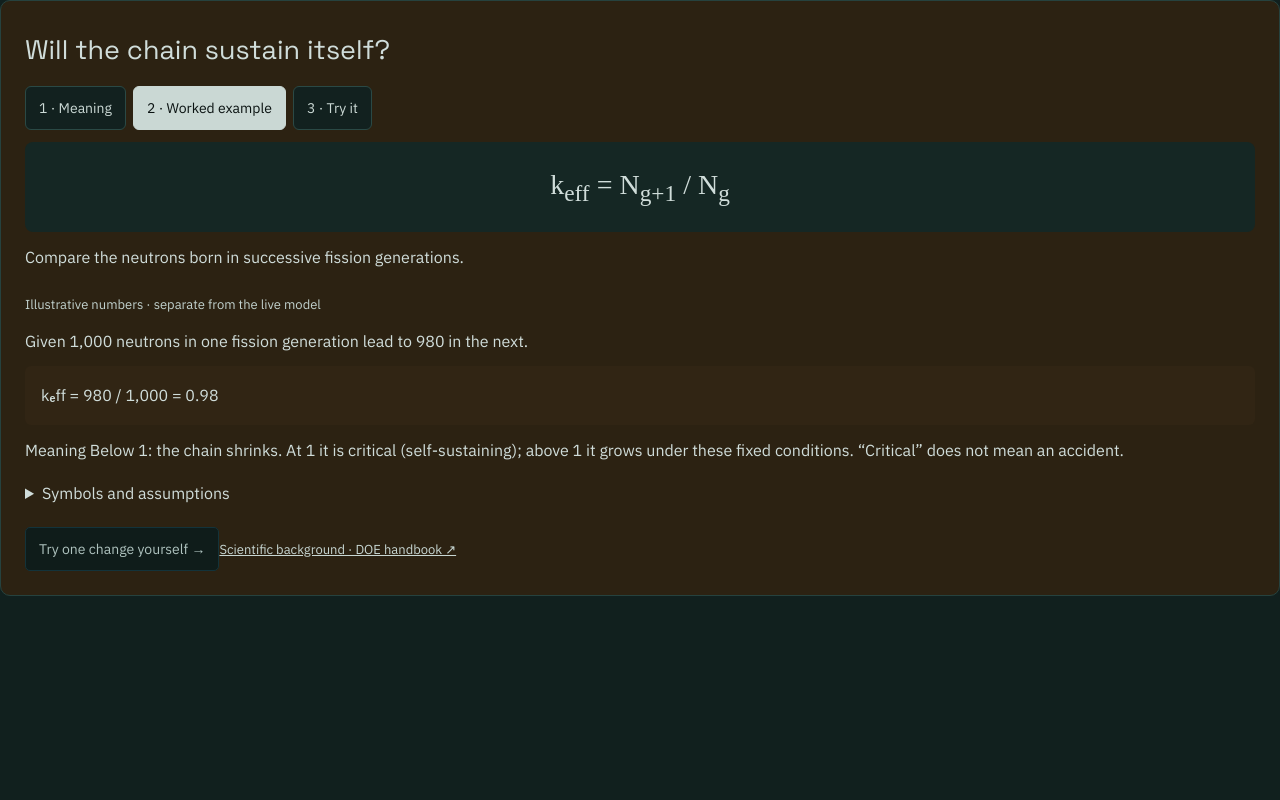
Test: each equation's worked example leads to actionable feedback and retry
Earlier steps of the test are not shown.
Later steps or results of the test are not shown.
Expected: the text "Illustrative numbers · separate from the live model" is shown, [25,296,321,313]
Click the button "Try one change yourself →".
click(122, 549)  # box [25,527,220,571]
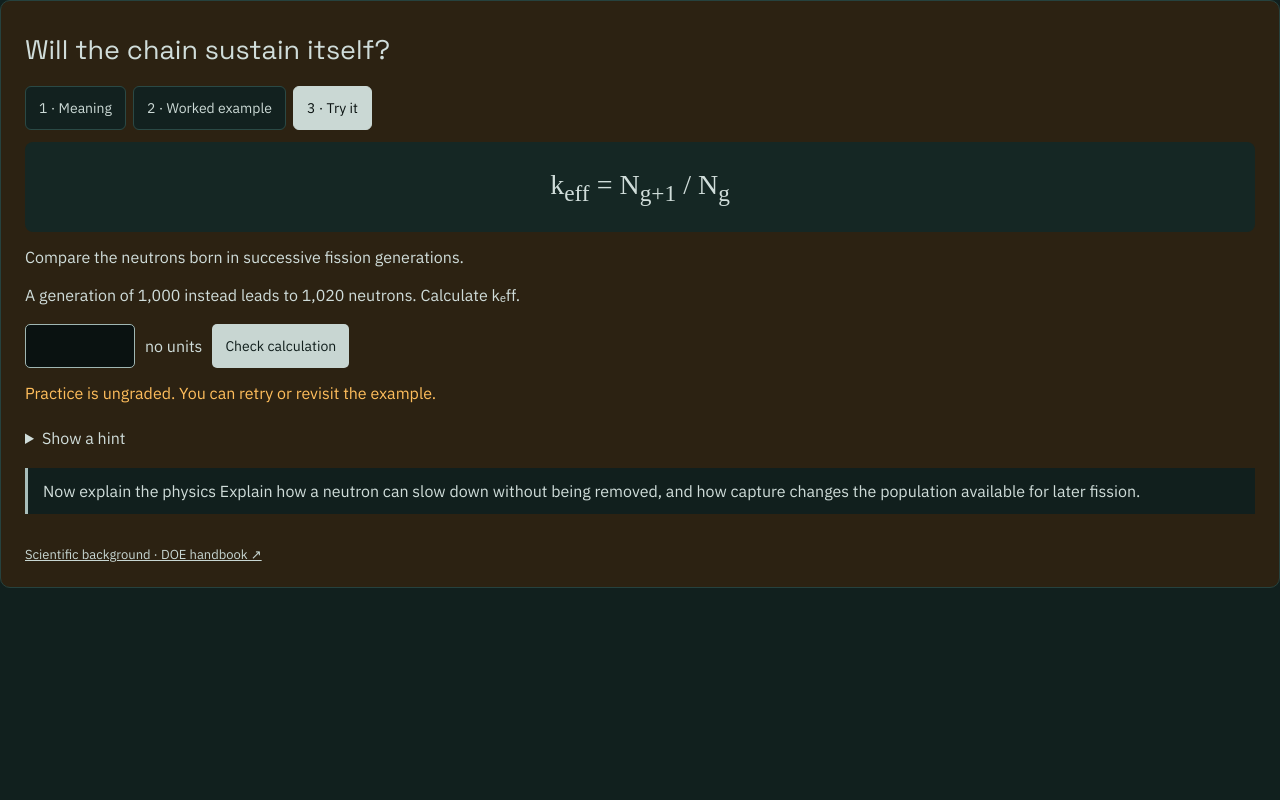
Click the button "Check calculation".
click(281, 346)  # box [212,324,349,368]
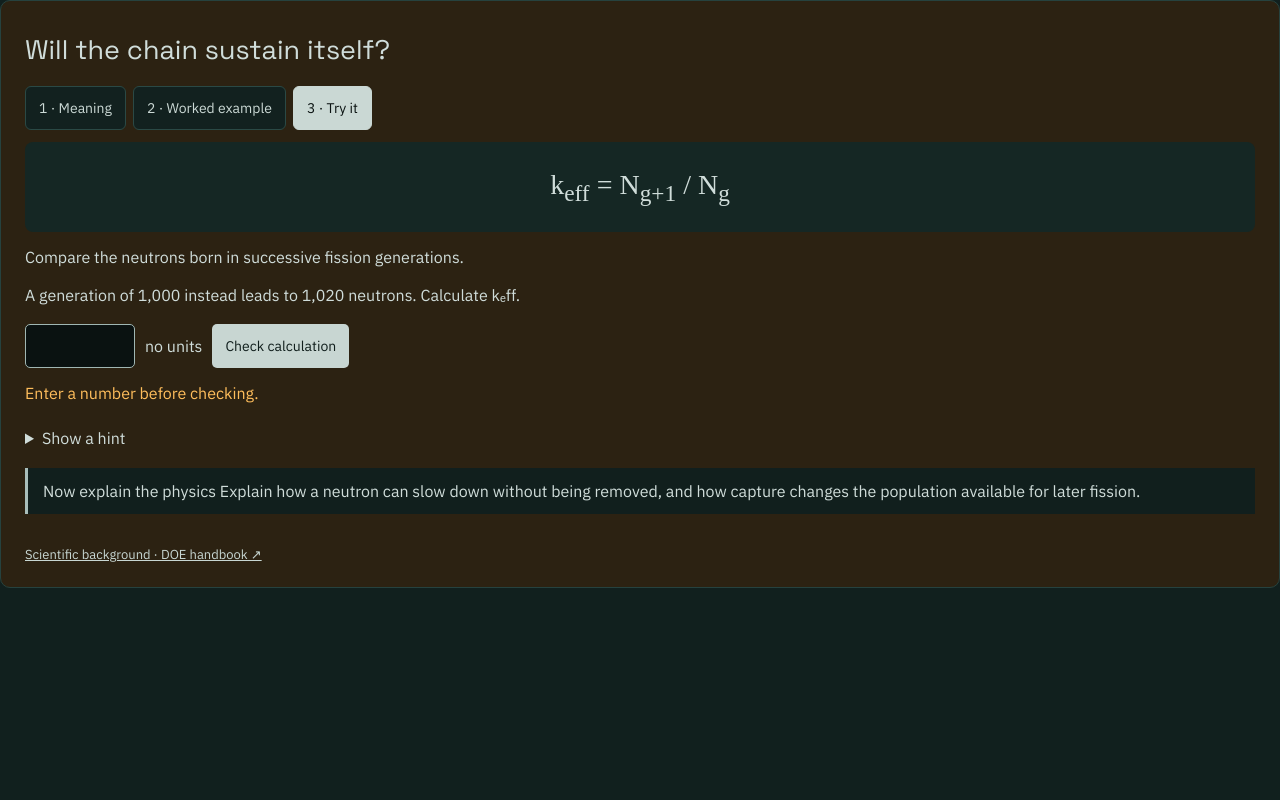
Expected: the message shows "Enter a number", [25,383,259,403]
Type "999" into the field.
click(80, 346); type("999")  # box [25,324,135,368]
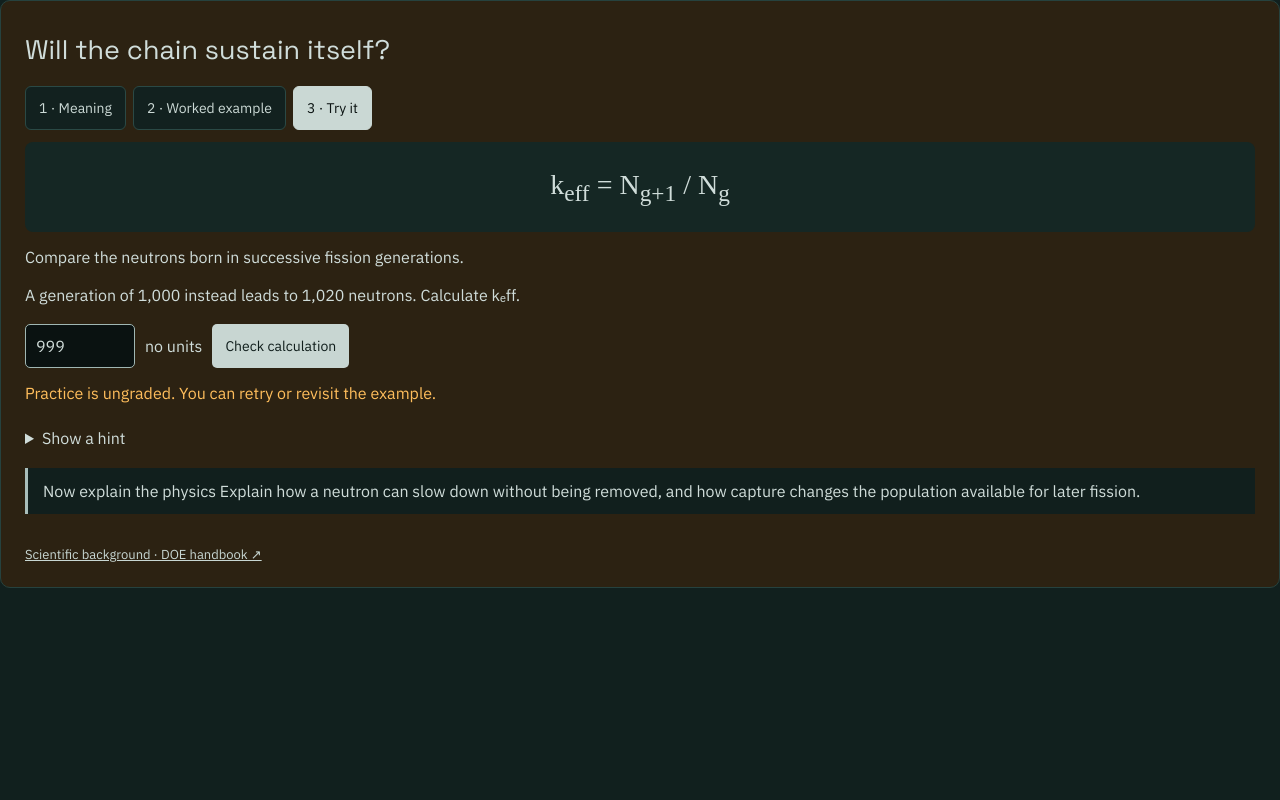
Click the button "Check calculation".
click(281, 346)  # box [212,324,349,368]
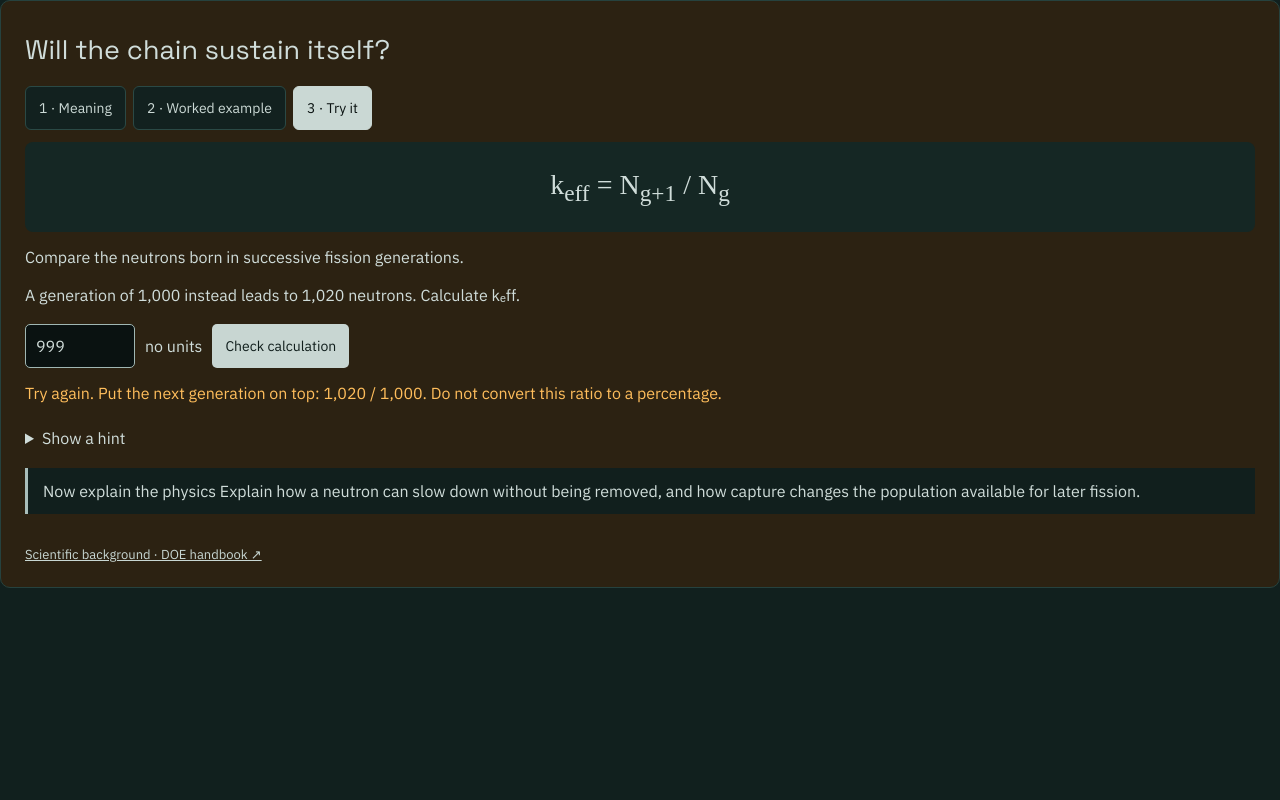
Expected: the message shows "Try again", [25,383,722,403]
Replace the text in the field with "1.02" at (80, 346), box [25,324,135,368]
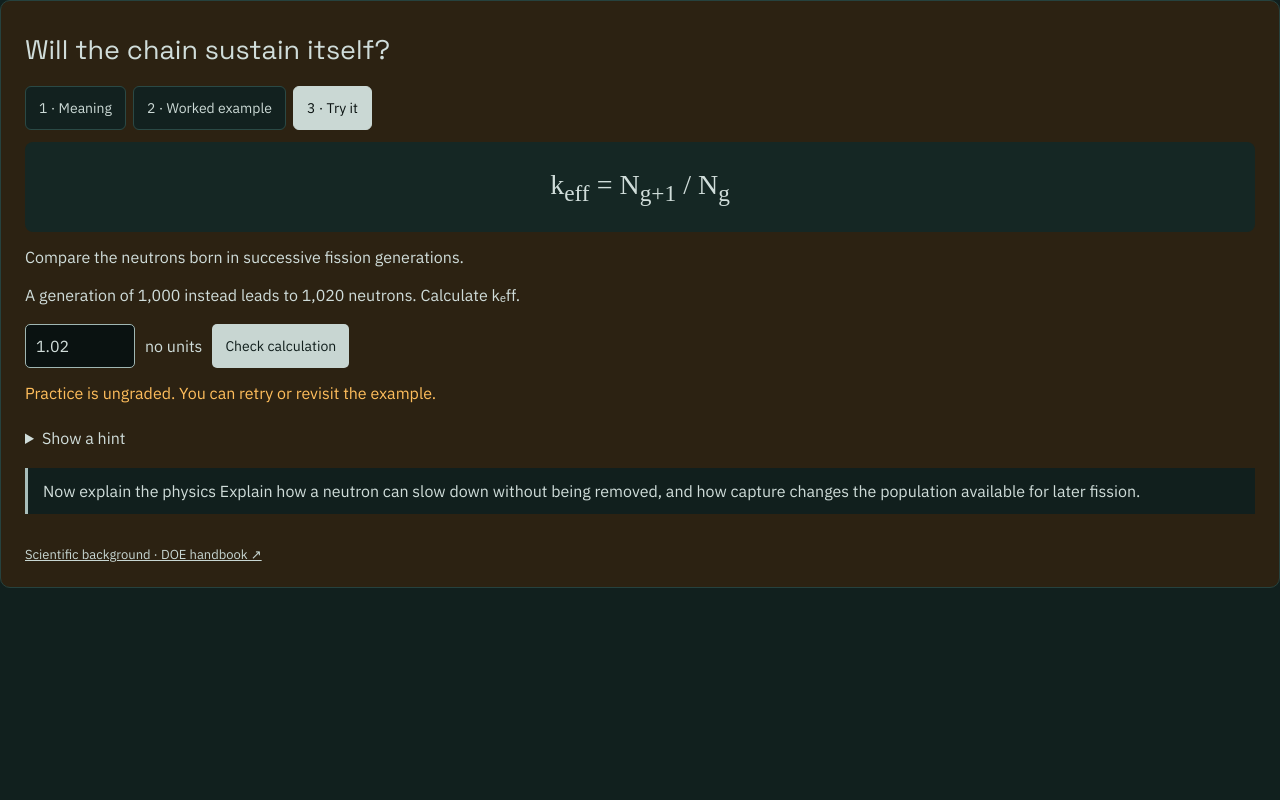
Click the button "Check calculation".
click(281, 346)  # box [212,324,349,368]
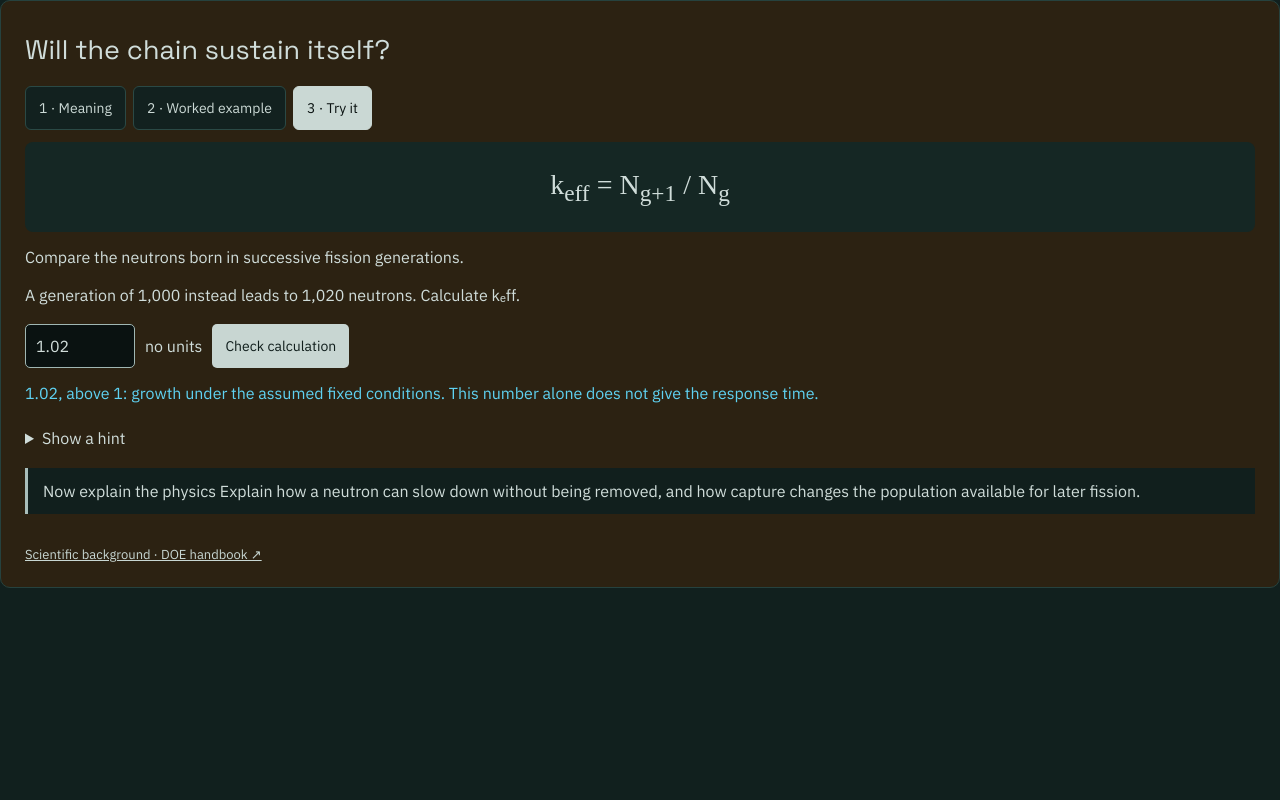
Expected: the message shows "above 1", [25,383,818,403]
